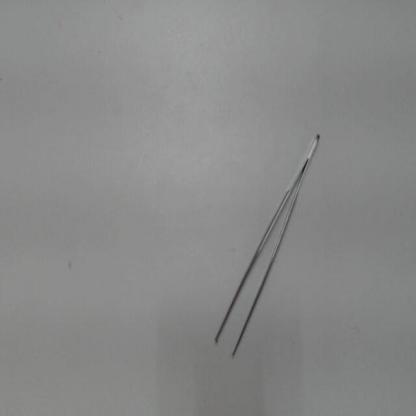Gillies Toothed Dissector: (207, 121, 330, 364)
